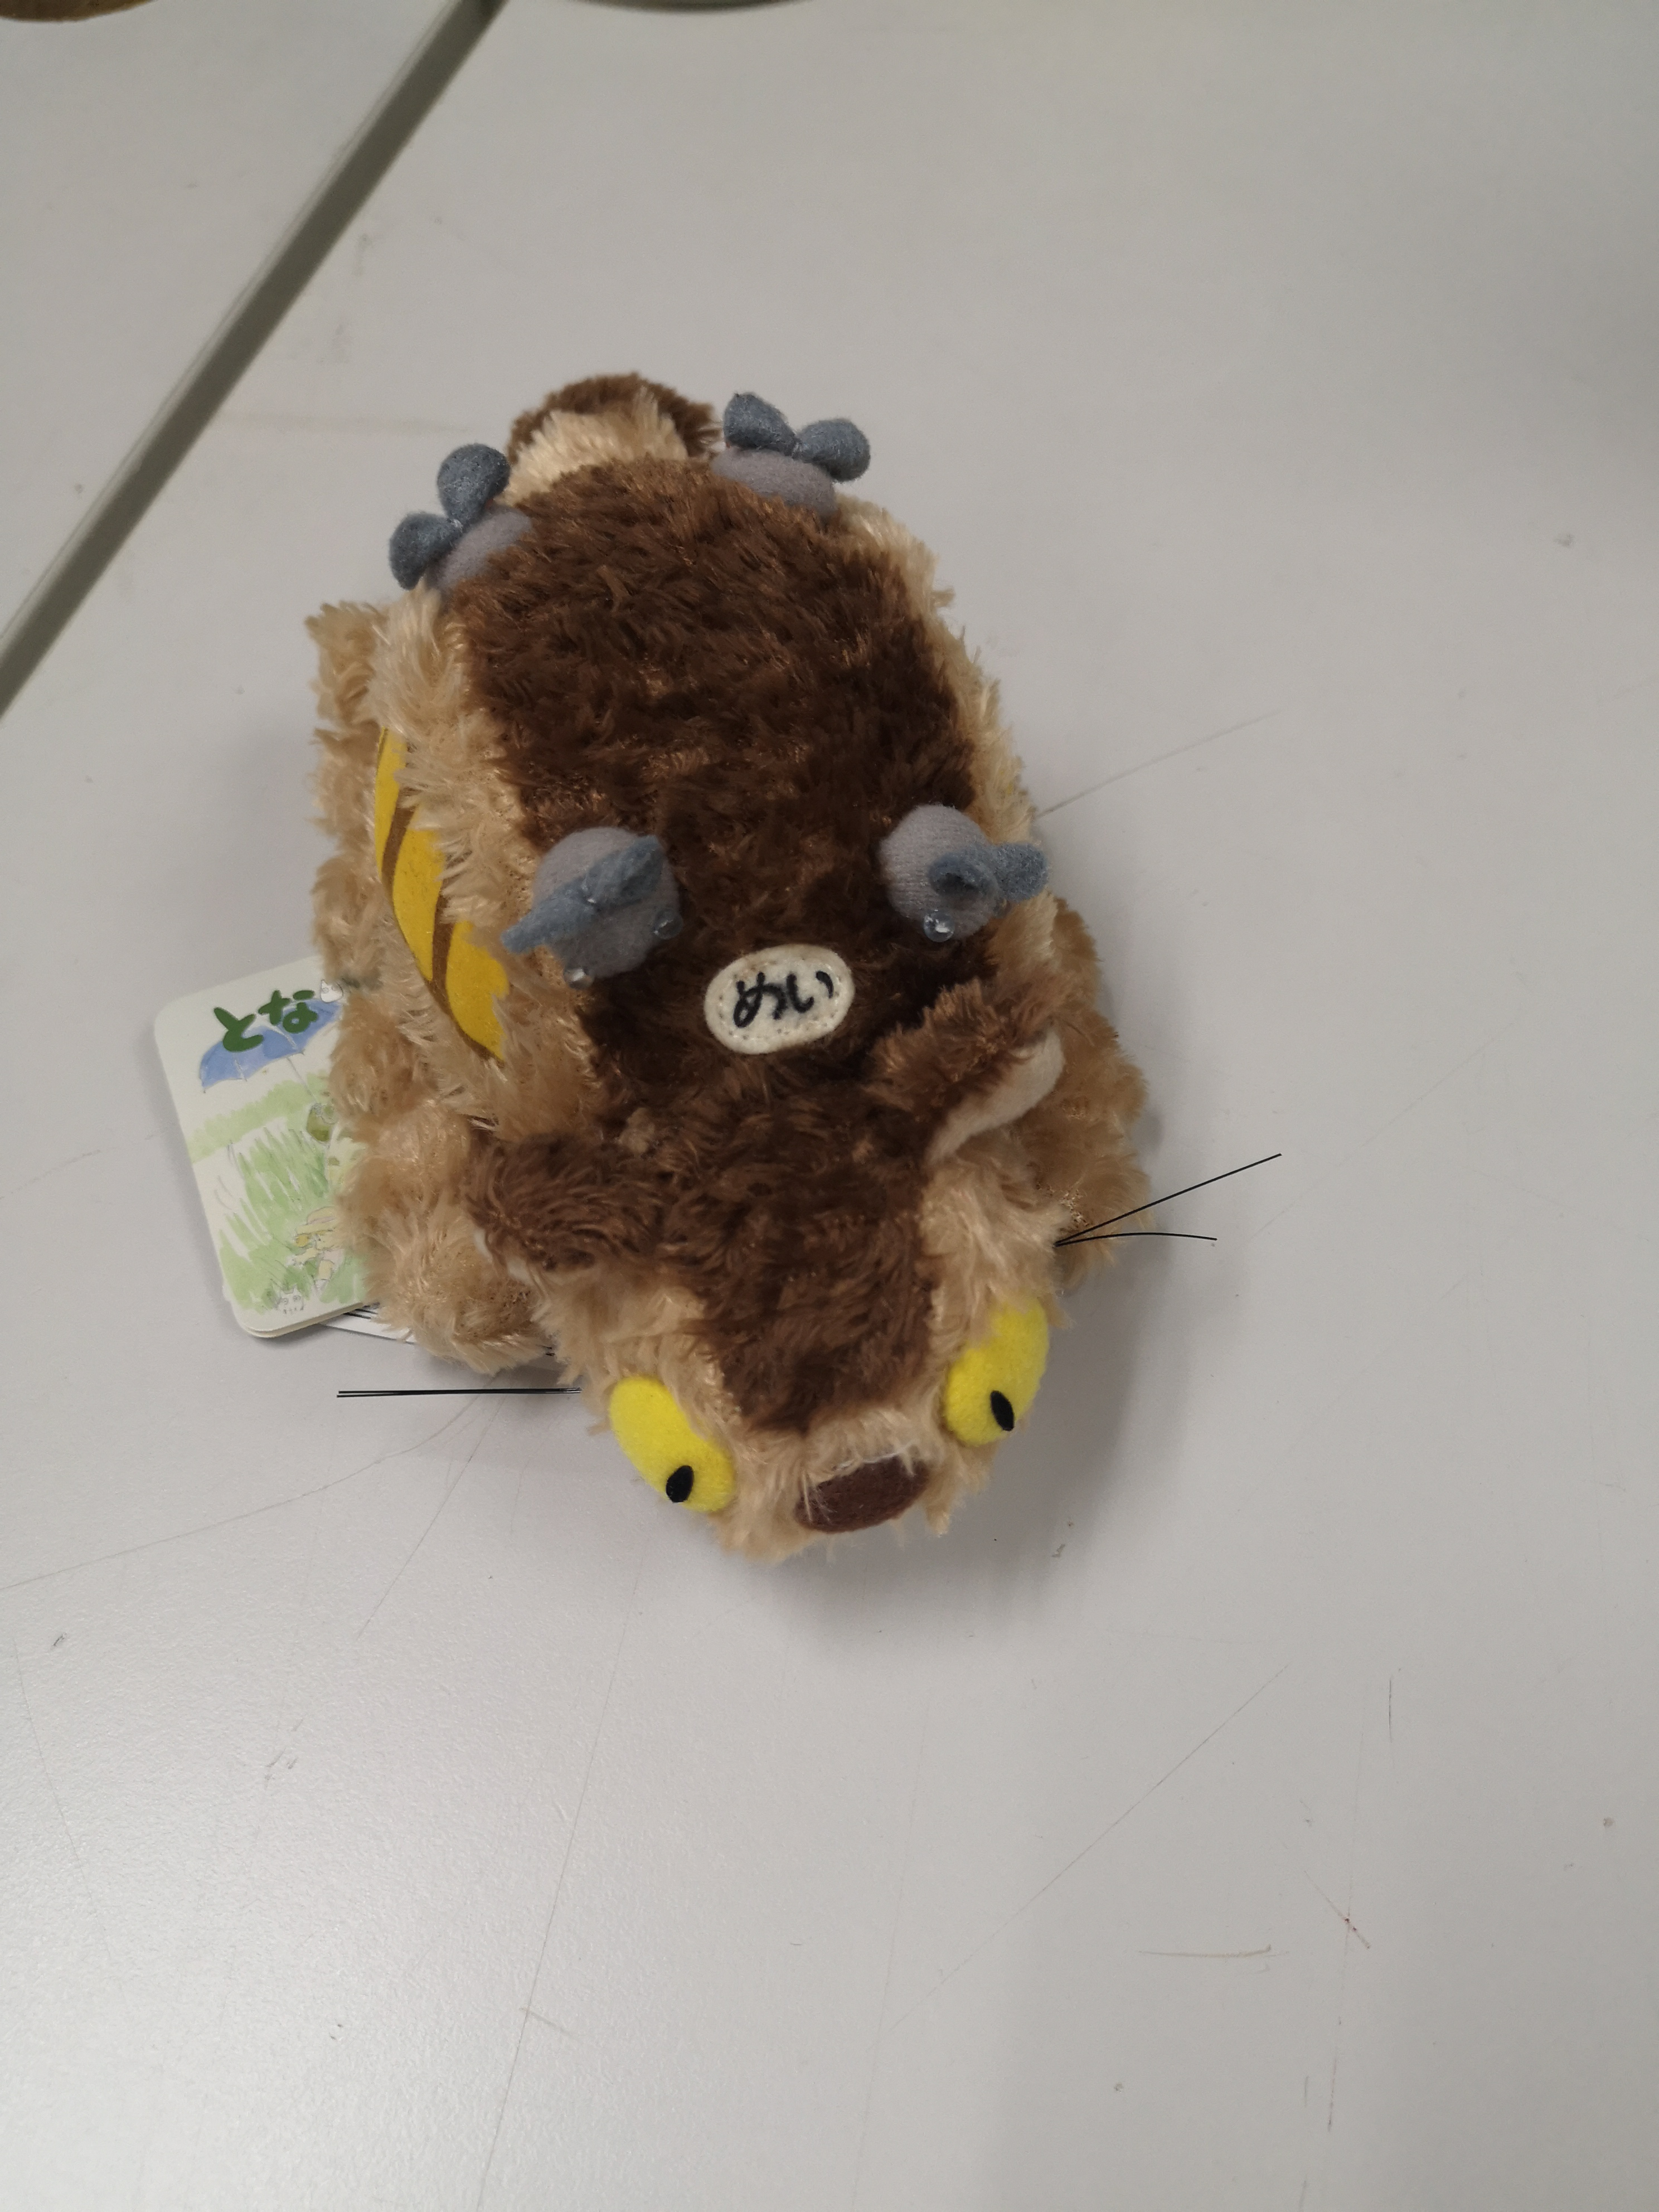nekobus: (298, 369, 1284, 1566)
